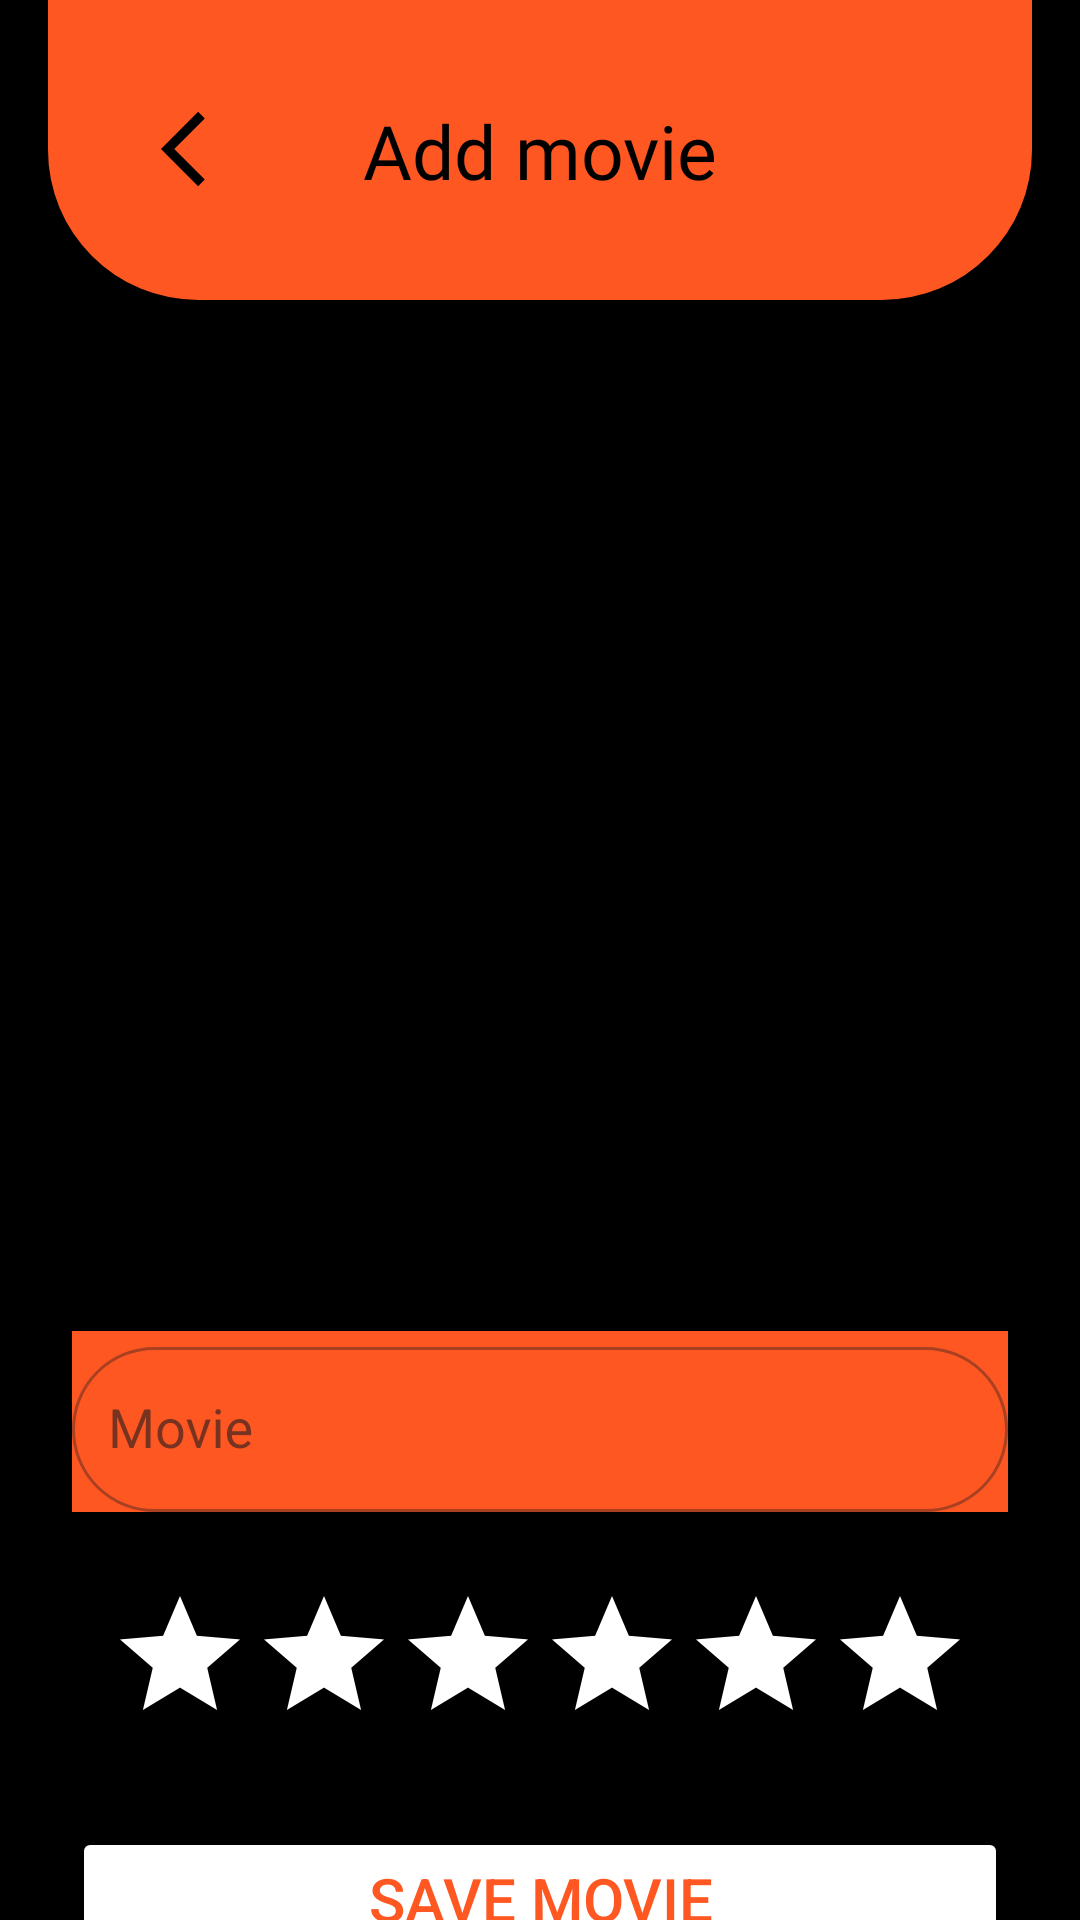

Where to tap for icons on this 1080×1920 app screen, as point (x, y):
details back: point (183, 149)
